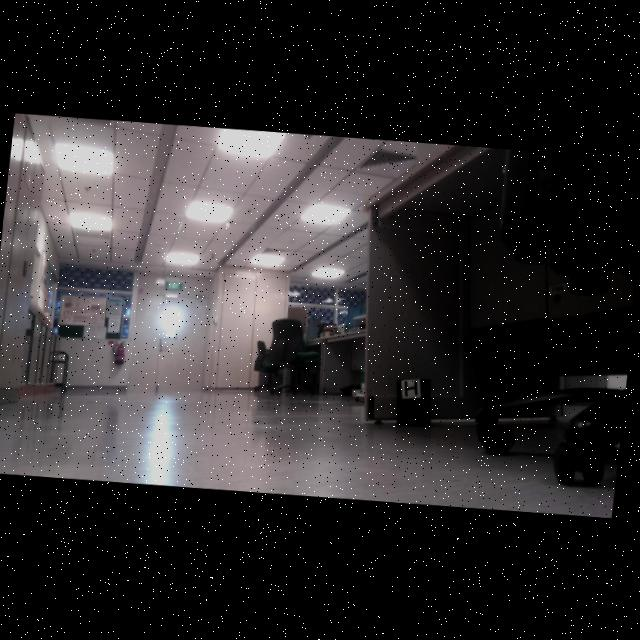H: (406, 382, 419, 397)
